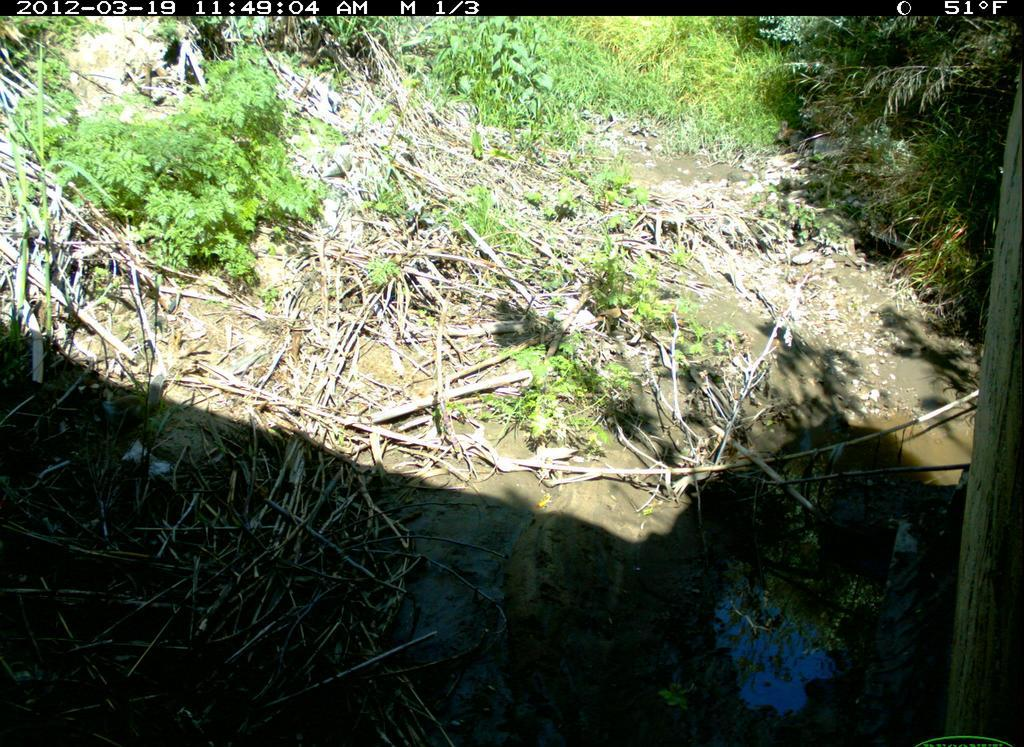squirrel: (71, 361, 187, 452)
